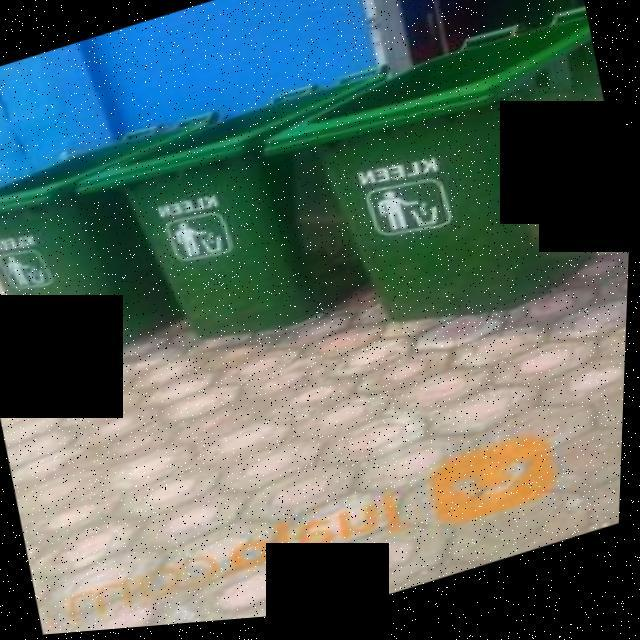bin: (245, 2, 638, 387)
